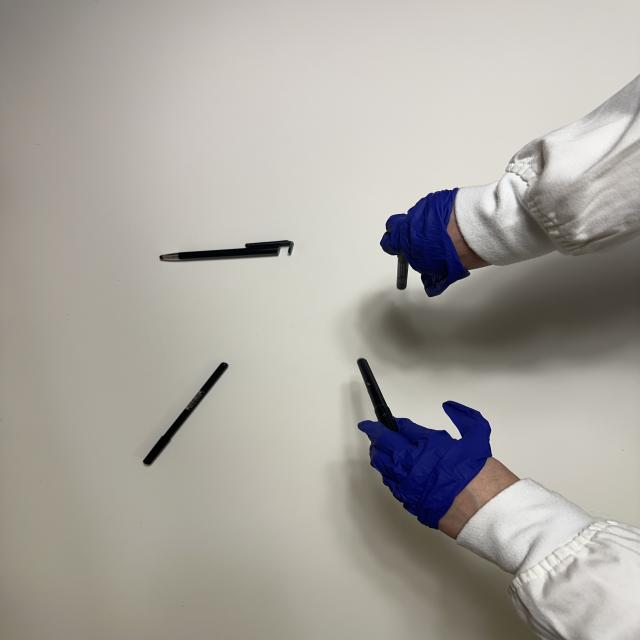glove_partial: (356, 399, 528, 541), (380, 185, 497, 298)
